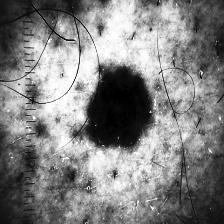Benign Marking or Mole: (80, 57, 158, 162)
